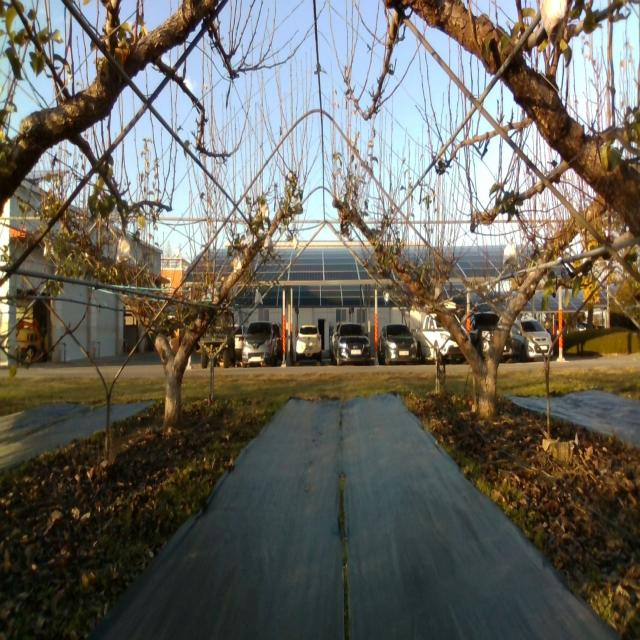pearbags: (539, 0, 568, 45), (116, 236, 130, 266), (502, 243, 518, 267)
